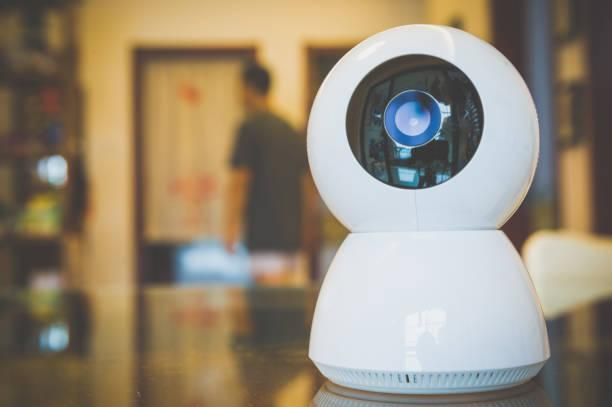camera: (291, 17, 566, 397)
